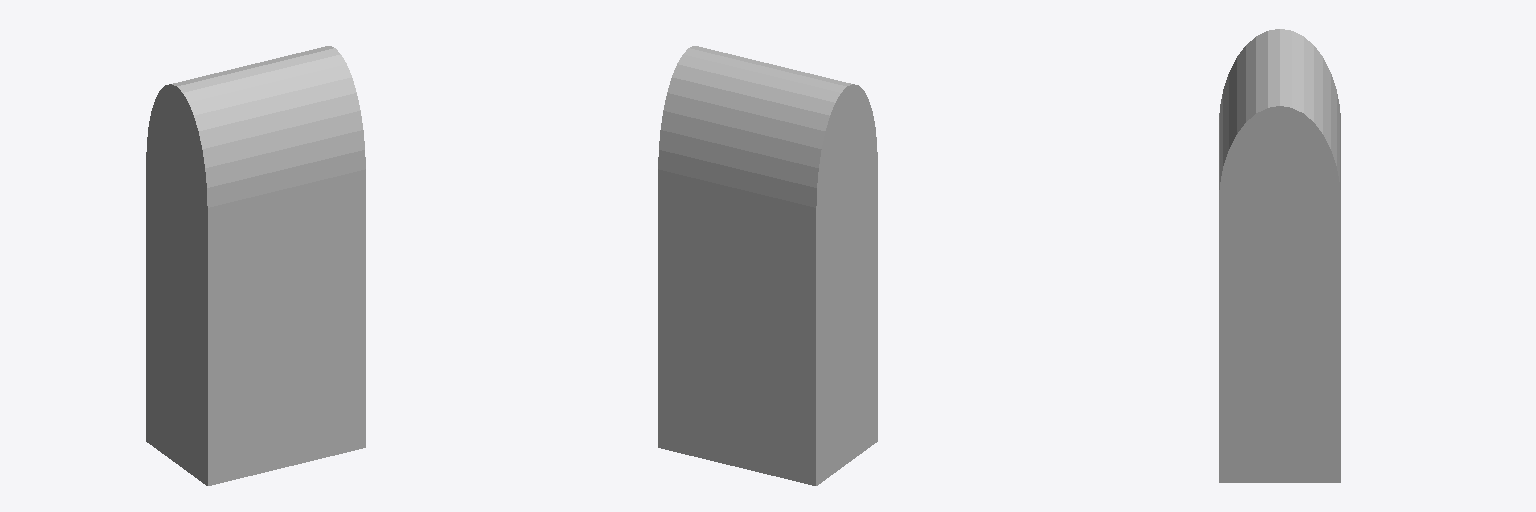
Rendered from body_r_dist_pin2vround2_collision.obj.
3 views of the same model, side by side, from view 1: azimuth 30°, elevation 25°; view 2: azimuth 150°, elevation 25°; view 3: azimuth 270°, elevation 25° (orthographic).
Visible parts, largest first — view 1: body_r_dist_pin2vround2_collision_Cube.584; view 2: body_r_dist_pin2vround2_collision_Cube.584; view 3: body_r_dist_pin2vround2_collision_Cube.584.
Part boxes in pixels (left/top/right/bottom): body_r_dist_pin2vround2_collision_Cube.584: left=146, top=46, right=365, bottom=485; body_r_dist_pin2vround2_collision_Cube.584: left=658, top=46, right=877, bottom=485; body_r_dist_pin2vround2_collision_Cube.584: left=1219, top=29, right=1340, bottom=482.
Size of the model in its own units: 0.32 by 0.7289 by 0.215.